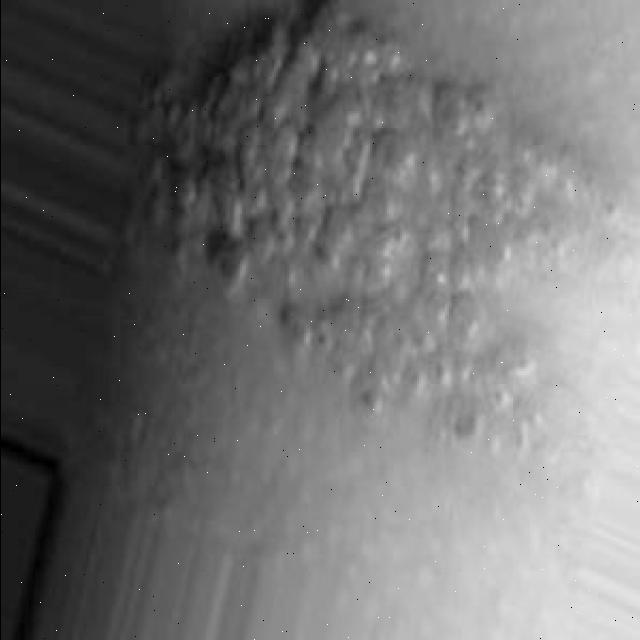Shingles: (131, 0, 619, 448)
